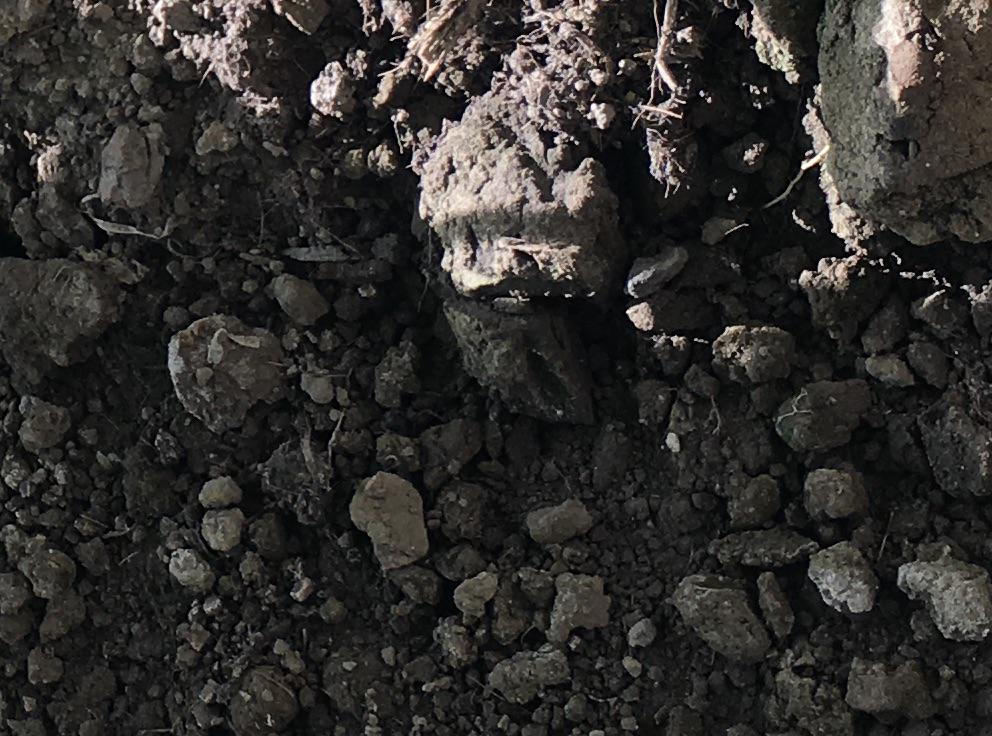block: (415, 86, 631, 299), (815, 1, 990, 247), (438, 294, 589, 425)
